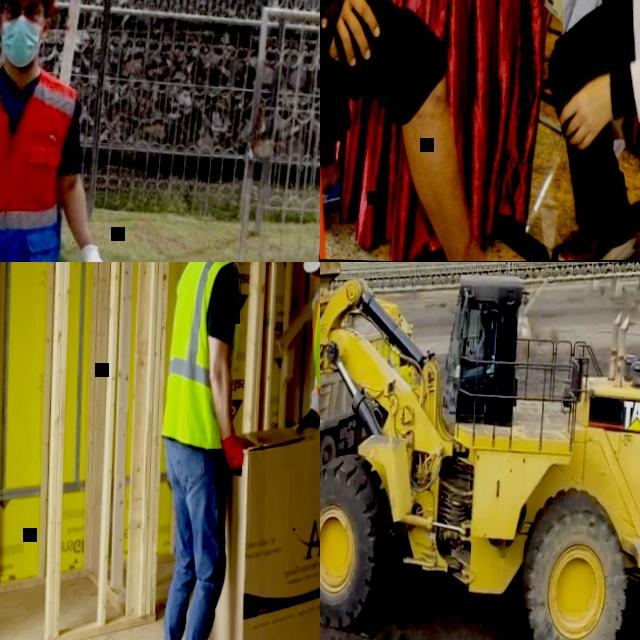Mask: (0, 14, 46, 68)
NO-Hardhat: (480, 314, 487, 323)
NO-Mask: (477, 325, 483, 332)
NO-Safety Vest: (478, 330, 489, 357)
Person: (320, 0, 547, 262), (445, 0, 640, 262), (147, 262, 259, 640), (0, 0, 135, 262), (286, 262, 320, 640), (463, 312, 491, 369)
Safety Vest: (157, 262, 244, 455), (0, 63, 79, 237)
machinery: (320, 262, 640, 640), (320, 286, 414, 495)
